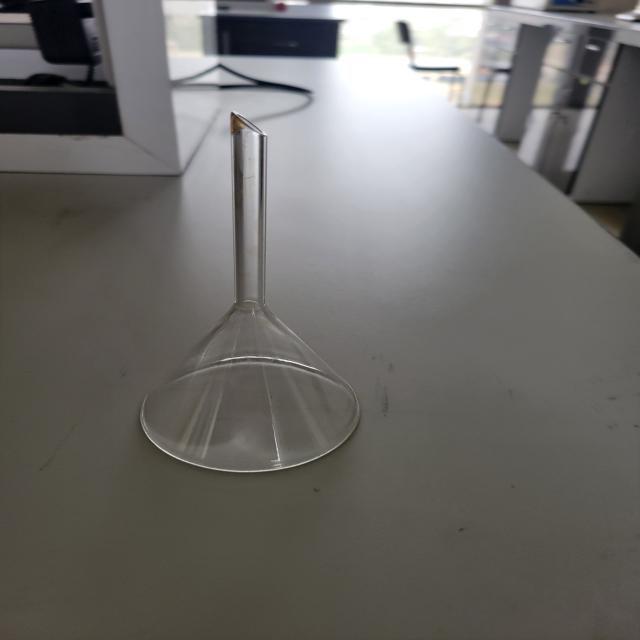Funnel: (85, 88, 411, 516)
